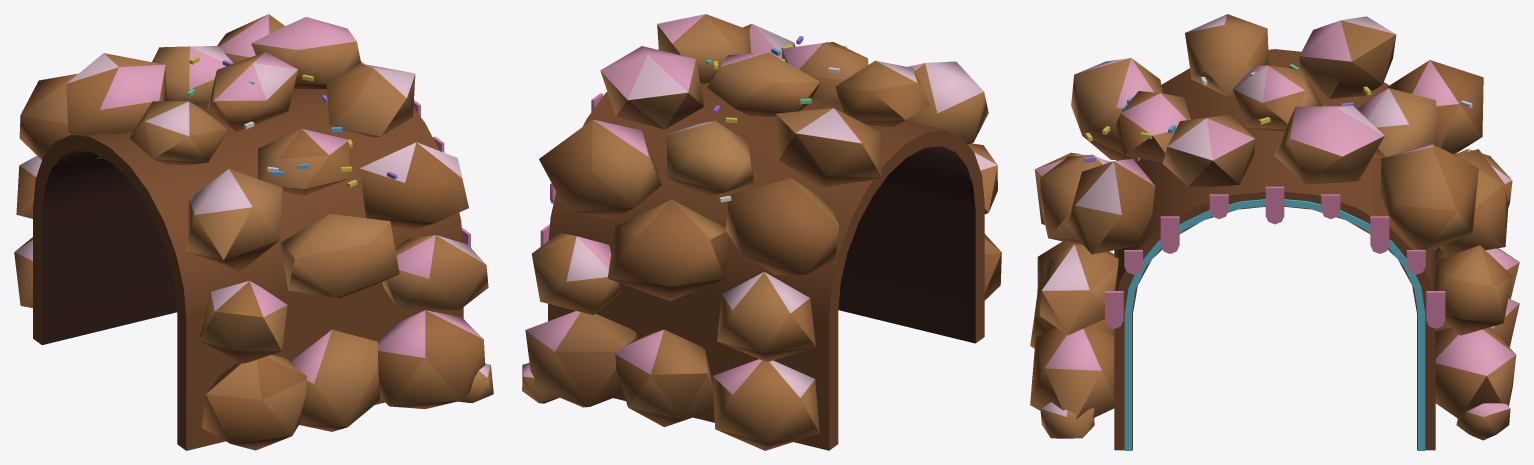
File: block-cave.glb
The picture shows the model from 3 angles, left to right: view 1: azimuth 30°, elevation 25°; view 2: azimuth 150°, elevation 25°; view 3: azimuth 270°, elevation 25°; orthographic projection. The views are drawn at different scales.
Visible parts, largest first — view 1: block-cave; view 2: block-cave; view 3: block-cave.
Part boxes in pixels (box(x1,y1,x2,y2)): block-cave: box(14, 14, 493, 450); block-cave: box(522, 14, 1001, 450); block-cave: box(1030, 14, 1519, 450).
Bounding box in the file's own units: 3 × 2.95 × 4.14.
